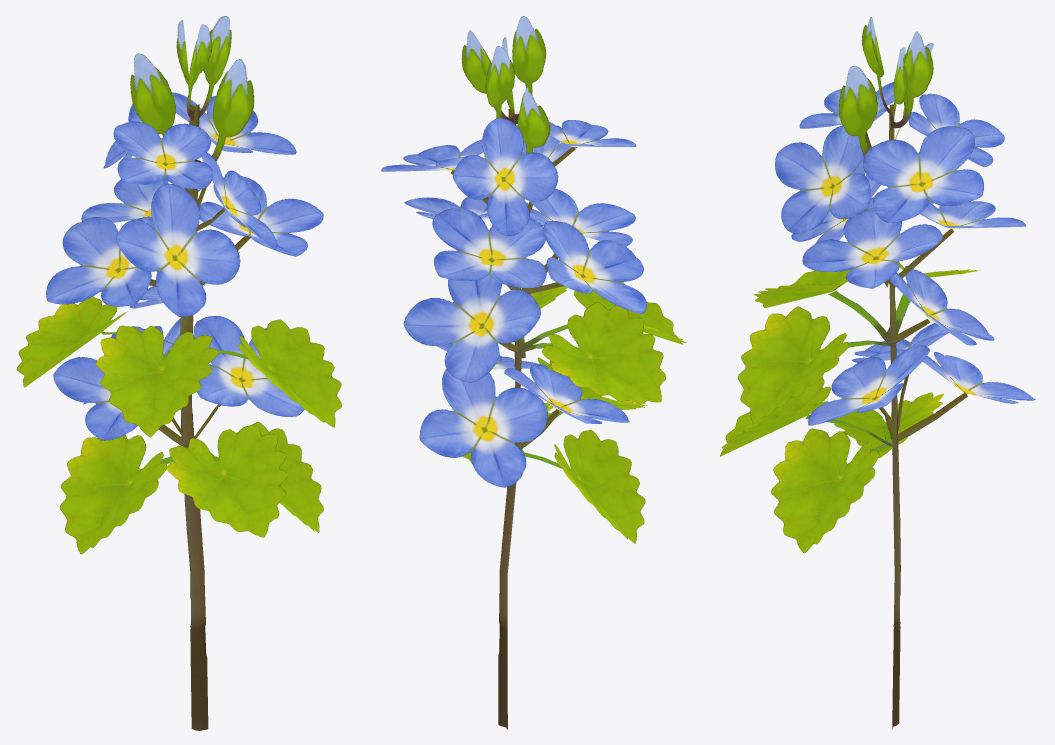
The model's file is flower.fbx.
The picture shows the model from 3 angles, left to right: view 1: azimuth 30°, elevation 25°; view 2: azimuth 150°, elevation 25°; view 3: azimuth 270°, elevation 25°; orthographic projection.
Visible parts, largest first — view 1: flower; view 2: flower; view 3: flower.
Boxes of the visible parts, x1=… form: flower: x1=16, y1=16, x2=341, y2=730; flower: x1=381, y1=16, x2=686, y2=729; flower: x1=720, y1=17, x2=1035, y2=728.
Size of the model in its own units: 38.97 by 93.09 by 38.51.
Materials: 1 (1 with a texture image).
